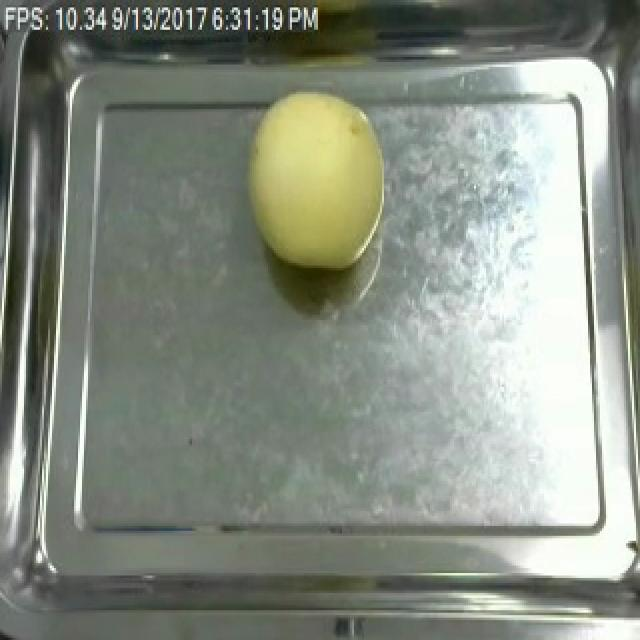Fruit: (238, 82, 394, 278)
